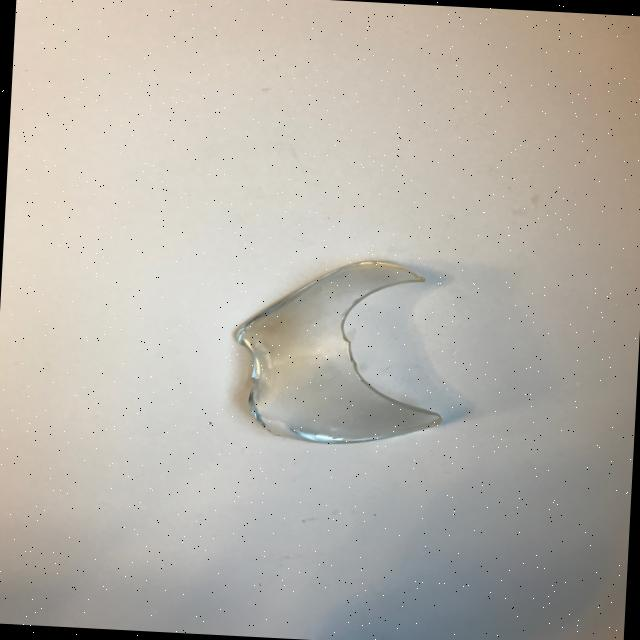glass: (229, 252, 452, 450)
